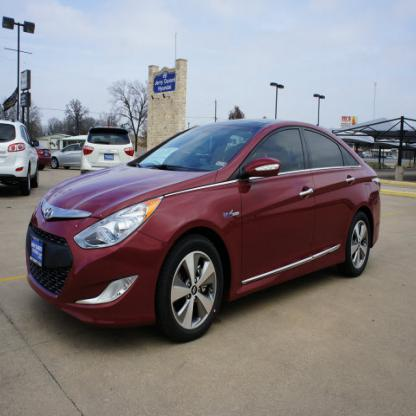Vehicle: (26, 117, 382, 341)
